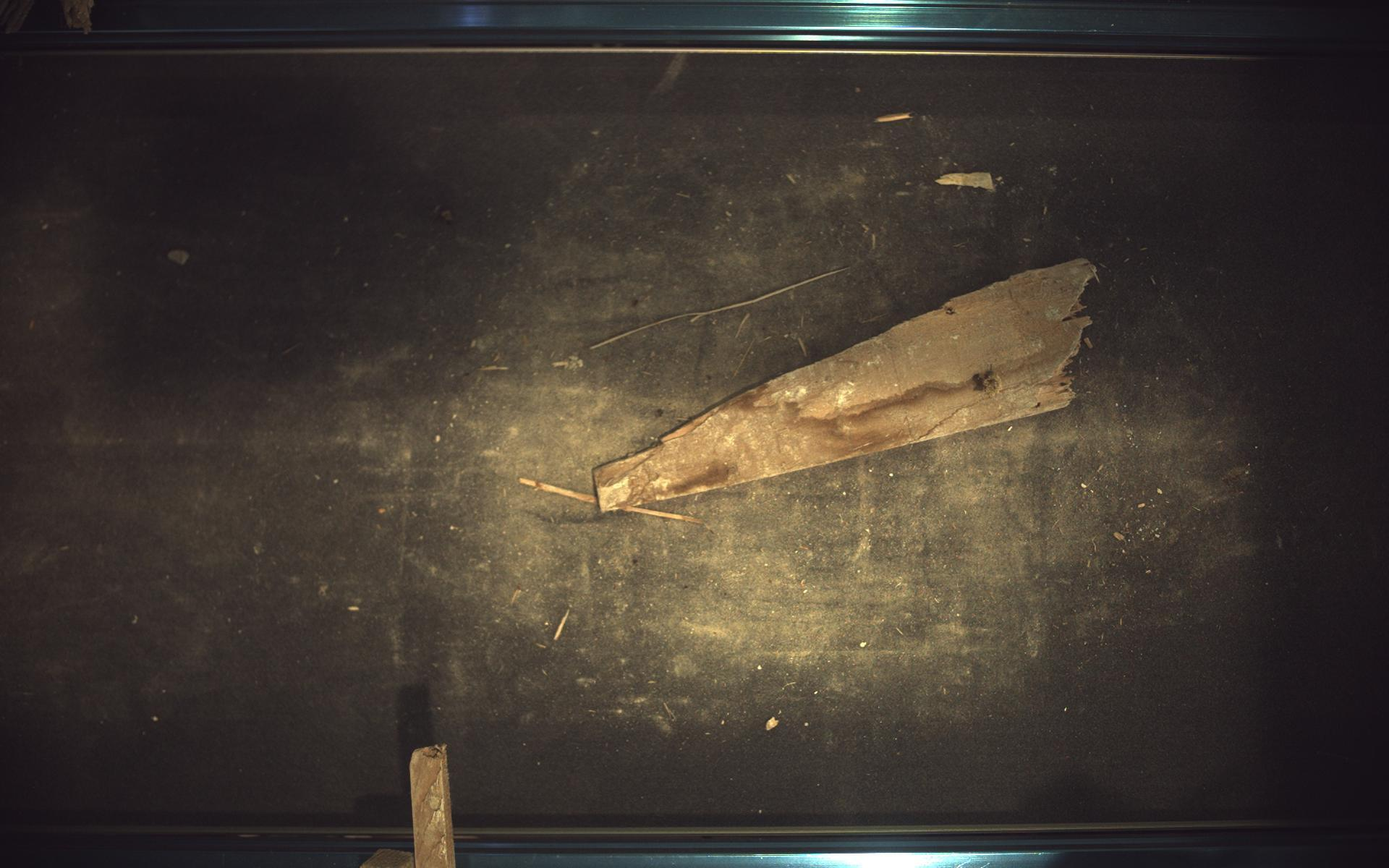wood: (594, 258, 1098, 512), (409, 746, 456, 868), (360, 850, 415, 868)
